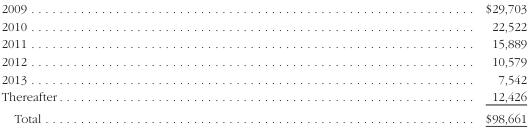table: (0, 1, 526, 125)
table column: (0, 1, 273, 125), (273, 1, 526, 125)
table row: (0, 87, 526, 107), (0, 34, 526, 52), (0, 52, 526, 70), (0, 107, 526, 125), (0, 17, 526, 34), (0, 70, 526, 87), (0, 1, 526, 17)
